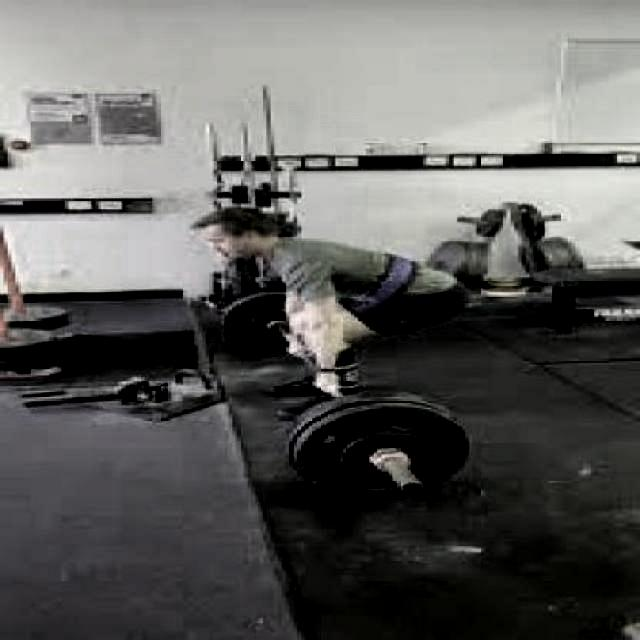barbell: (258, 387, 490, 510)
